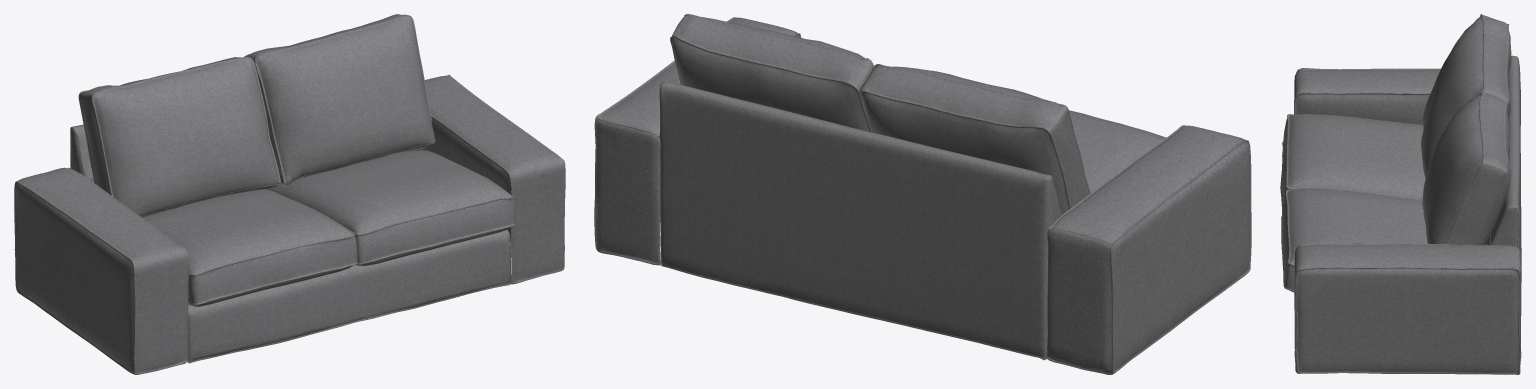
File: kivik_sofa_2_osobowa_09440599.glb
3 renders of one model, left to right at view 1: azimuth 30°, elevation 25°; view 2: azimuth 150°, elevation 25°; view 3: azimuth 270°, elevation 25°, orthographic. The views are drawn at different scales.
Visible parts, largest first — view 1: kivik_sofa_2_osobowa_09440599; view 2: kivik_sofa_2_osobowa_09440599; view 3: kivik_sofa_2_osobowa_09440599.
Part boxes in pixels (x1=…): kivik_sofa_2_osobowa_09440599: x1=14, y1=14, x2=565, y2=374; kivik_sofa_2_osobowa_09440599: x1=594, y1=14, x2=1251, y2=374; kivik_sofa_2_osobowa_09440599: x1=1280, y1=14, x2=1521, y2=374.
Size of the model in its own units: 1.89 by 0.8476 by 0.9568.
Materials: 2 (1 with a texture image).
